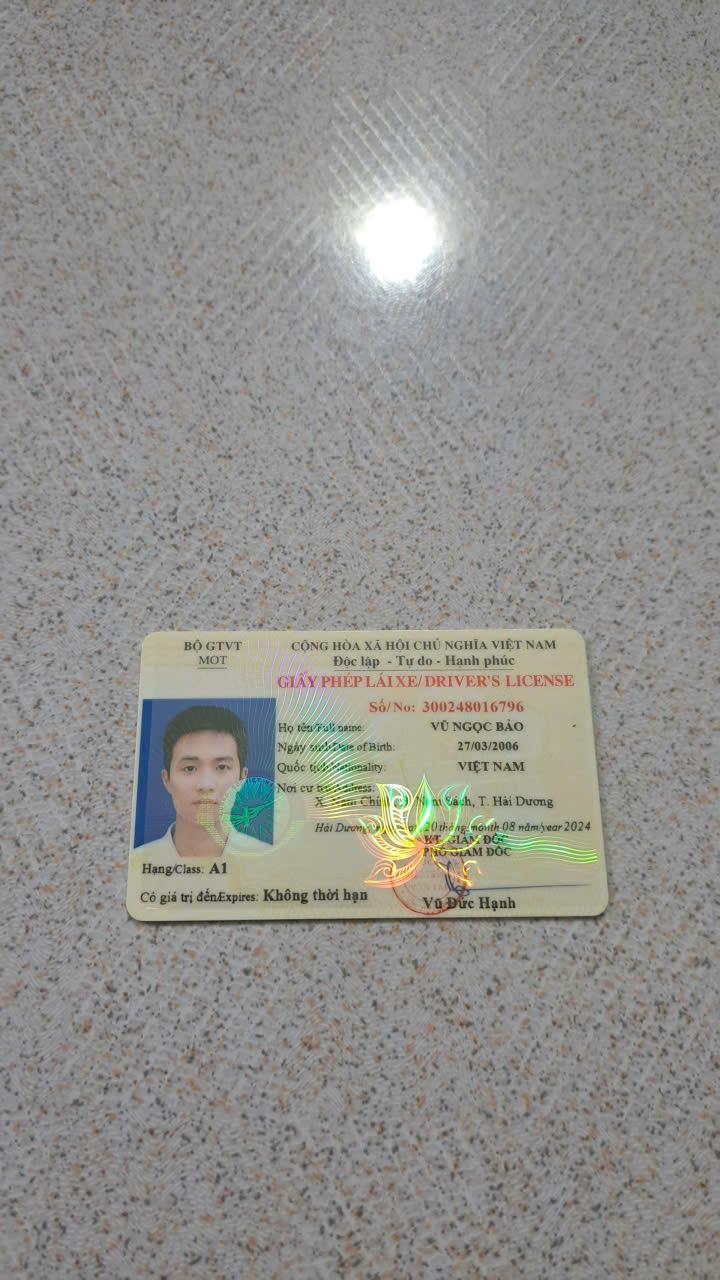gplx: (120, 625, 612, 928)
